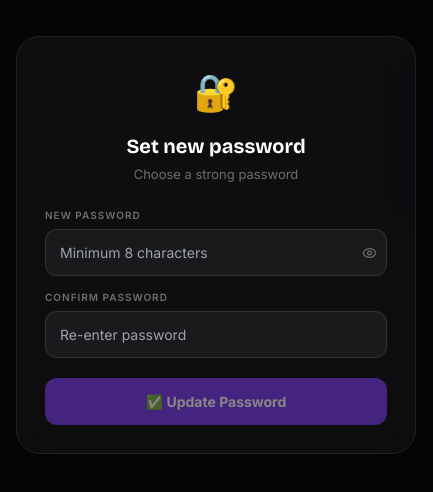
Test: password reset → login page, after sign-out has reached AuthContext › 3. stays on the reset page while the provider still shows the stale signed-in user
Check: the heading "Set new password" is shown, box [126, 134, 306, 158]
In the password field with placeholder "Minimum 8 characters": (216, 253) [45, 229, 387, 276], type "new-password-123"
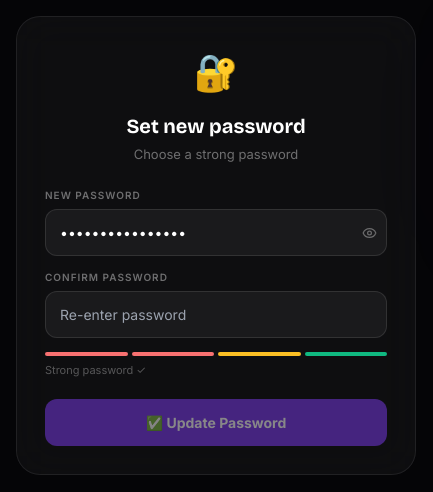
In the password field with placeholder "Re-enter password": (216, 314) [45, 291, 387, 338], type "new-password-123"
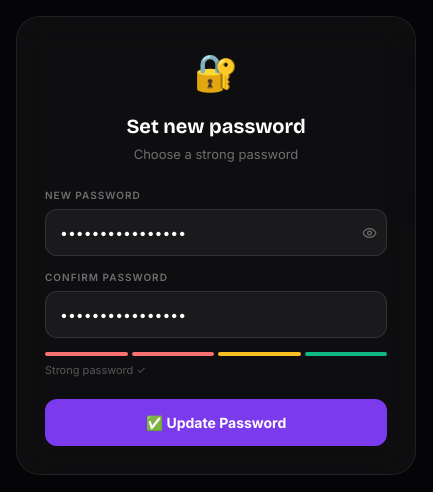
Click the button "✅ Update Password": (216, 422) [45, 398, 387, 446]
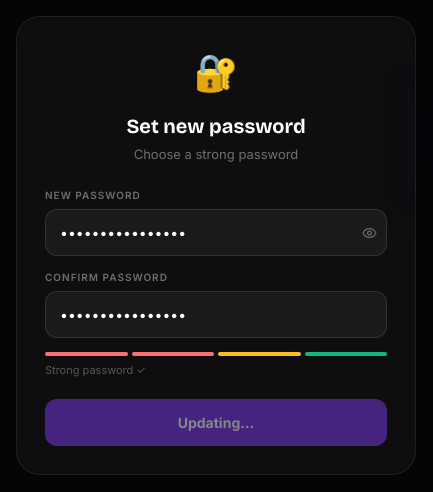
Check: the button "Updating…" is disabled, box [45, 398, 387, 446]
